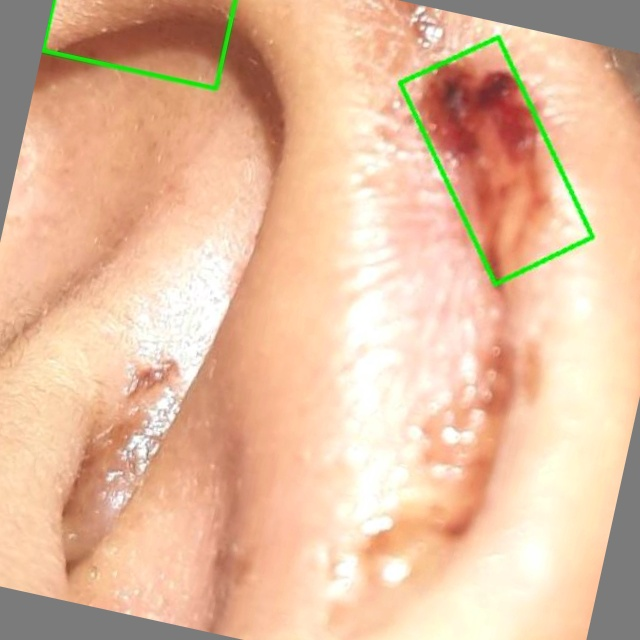Eczema: (401, 37, 593, 283)
